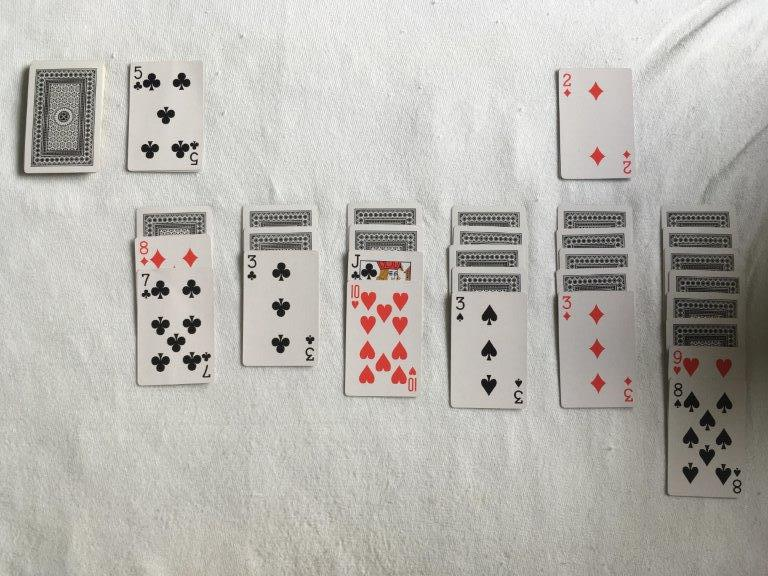10H: (349, 282, 362, 311)
2D: (561, 70, 576, 100)
3C: (245, 252, 259, 284)
3D: (560, 293, 575, 324)
3S: (453, 293, 467, 325)
5C: (132, 63, 144, 94)
7C: (139, 271, 153, 301)
8D: (137, 238, 151, 267)
8S: (671, 379, 685, 411)
9H: (671, 348, 684, 377)
BACK: (23, 61, 103, 173), (667, 318, 746, 345), (136, 205, 212, 233), (666, 291, 745, 317), (348, 224, 424, 250), (451, 266, 528, 291), (243, 226, 319, 250), (555, 267, 633, 290), (448, 244, 527, 266), (668, 269, 746, 291), (664, 247, 741, 269), (242, 204, 318, 226), (347, 202, 423, 224), (557, 205, 633, 227), (662, 226, 739, 247), (661, 205, 736, 226), (556, 227, 631, 247), (452, 225, 529, 244), (558, 248, 634, 267), (451, 206, 526, 225)
JC: (350, 251, 363, 282)
